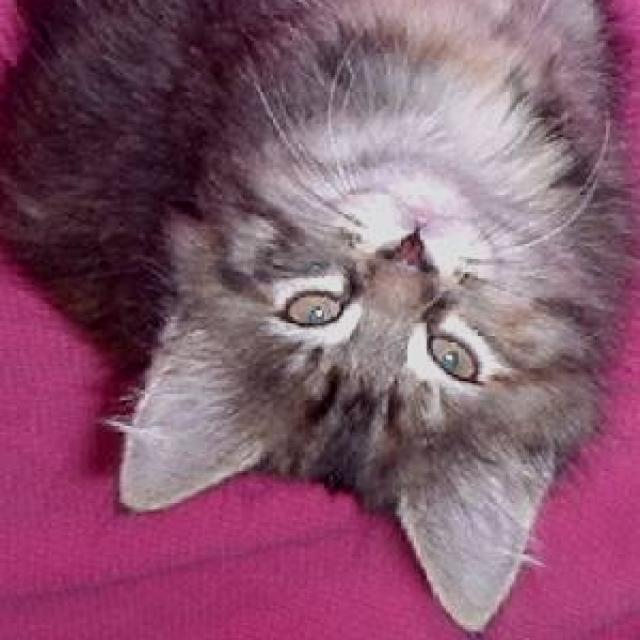Kucing: (0, 15, 629, 640)
